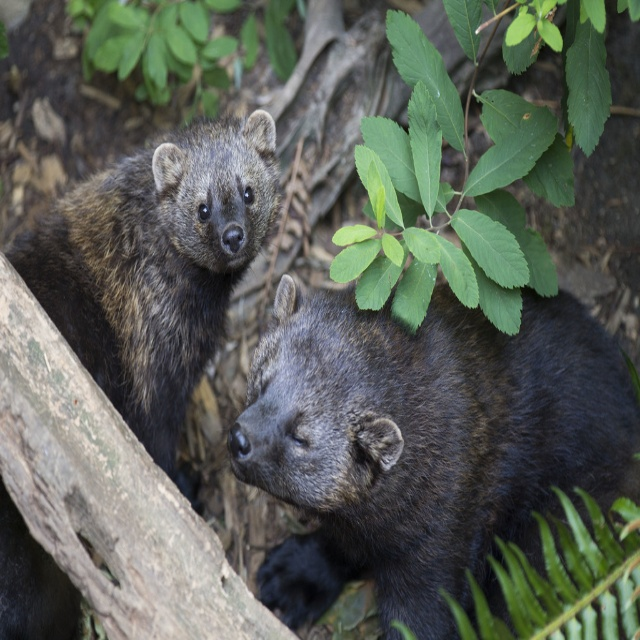Bear: (0, 107, 302, 640), (228, 275, 640, 639)
